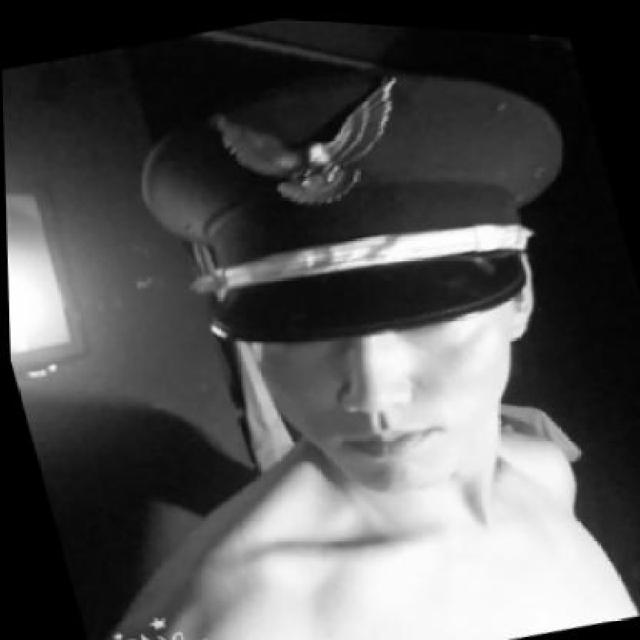hat: (106, 6, 606, 392)
